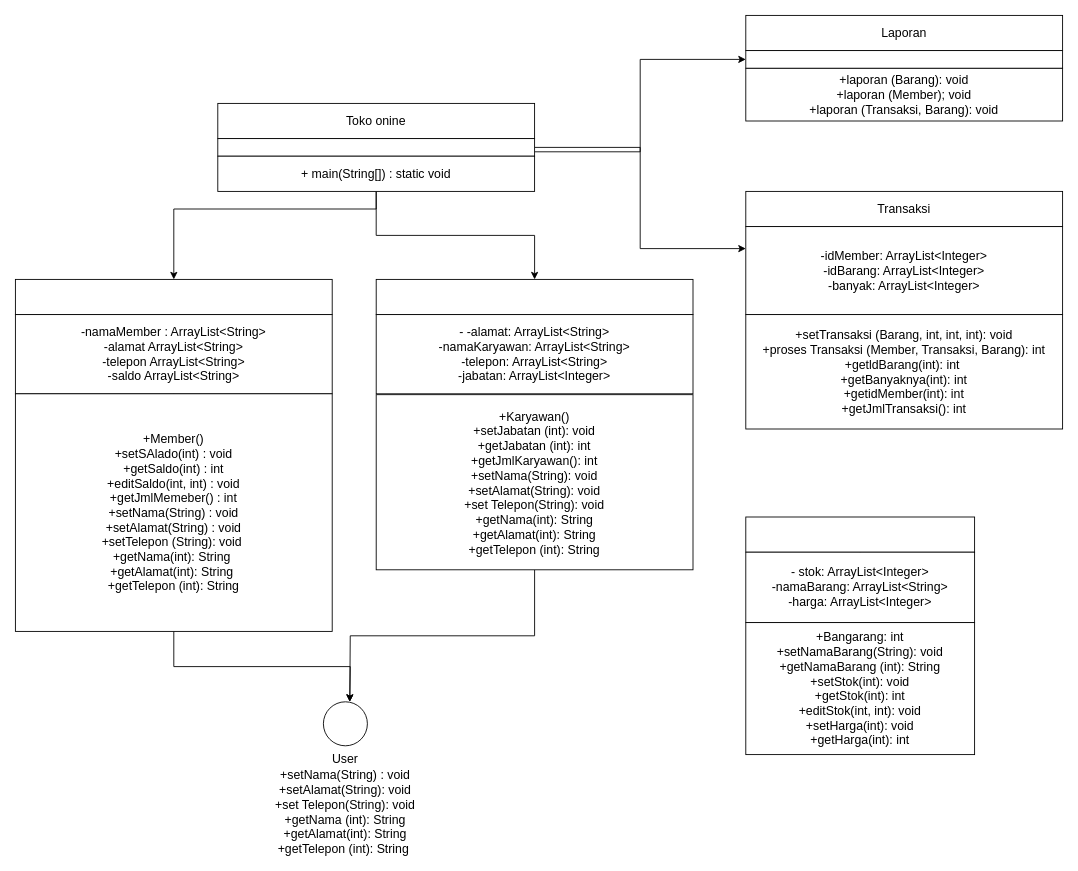
Image size: 1078x871. Some labels were removed from this diagram. The centre of each missing label's shape, as x and y in pixels:
"Barang" goes at point (860, 534).
"Karyawan" goes at point (534, 297).
"Member" goes at point (173, 297).
